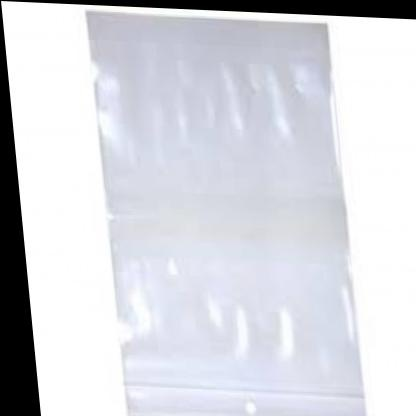trash: (88, 12, 365, 415)
